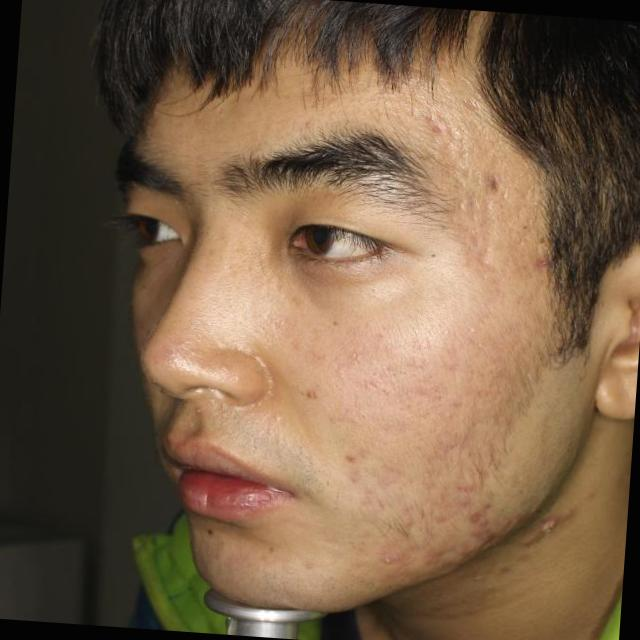acne: (411, 105, 454, 150), (517, 240, 560, 284), (538, 508, 576, 538), (368, 547, 408, 574), (482, 168, 514, 200), (456, 228, 490, 258), (331, 443, 368, 468), (294, 380, 321, 408), (469, 496, 494, 524), (422, 540, 446, 566), (465, 524, 496, 544), (450, 546, 468, 561)
